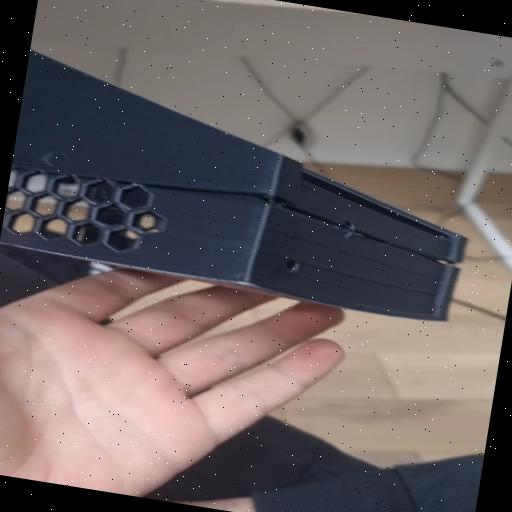cracks: (177, 174, 467, 274)
